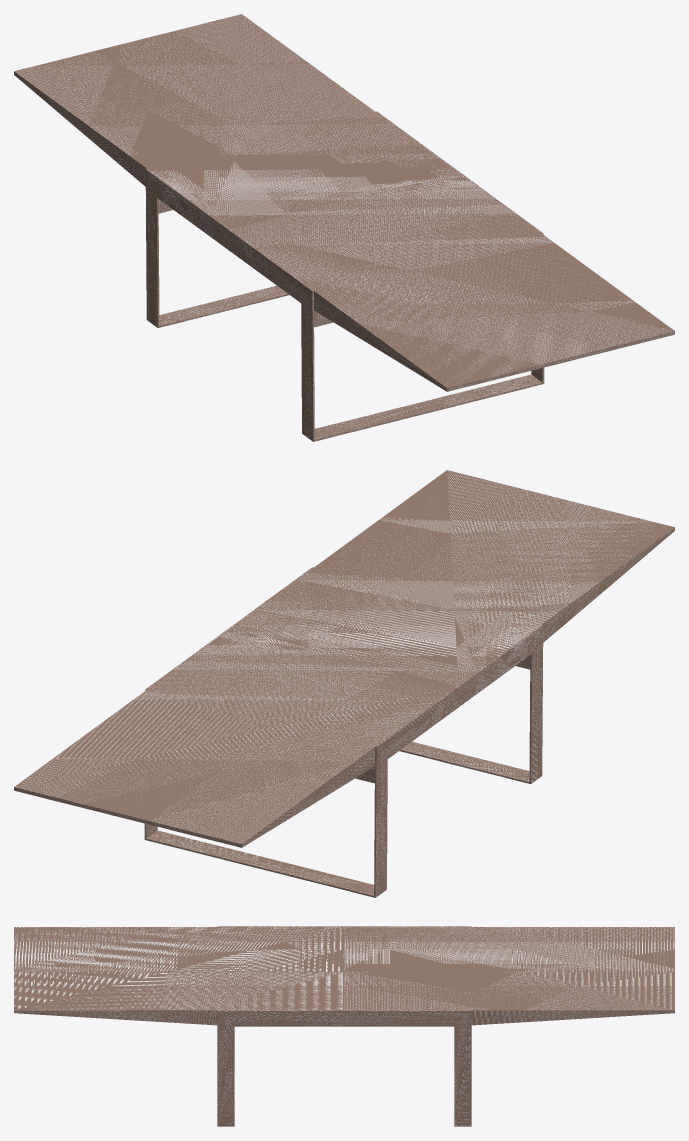
Rendered from env_table.dae.
The picture shows the model from 3 angles, top to bottom: view 1: azimuth 30°, elevation 25°; view 2: azimuth 150°, elevation 25°; view 3: azimuth 270°, elevation 25°; orthographic projection. The views are drawn at different scales.
Visible parts, largest first — view 1: skp990F; view 2: skp990F; view 3: skp990F.
Part boxes in pixels (left/top/right/bottom): skp990F: left=14, top=14, right=674, bottom=441; skp990F: left=14, top=470, right=674, bottom=897; skp990F: left=14, top=926, right=674, bottom=1126.
Bounding box in the file's own units: 47.45 × 153 × 29.86.
